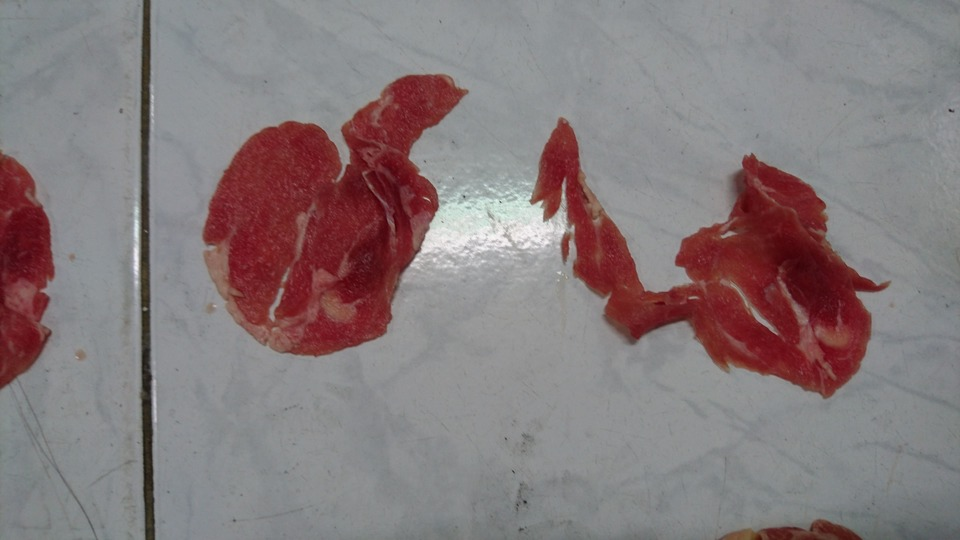restructured meat: (515, 114, 875, 400), (201, 85, 449, 361), (1, 131, 48, 383)
